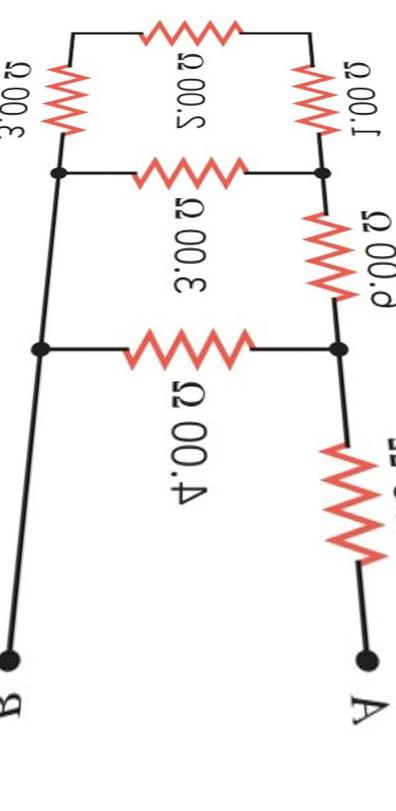resistor: (291, 426, 392, 573), (118, 138, 261, 206), (278, 193, 357, 307), (116, 309, 254, 371), (122, 138, 265, 193), (294, 193, 357, 309), (138, 0, 263, 57), (41, 55, 100, 145), (287, 53, 337, 147)
